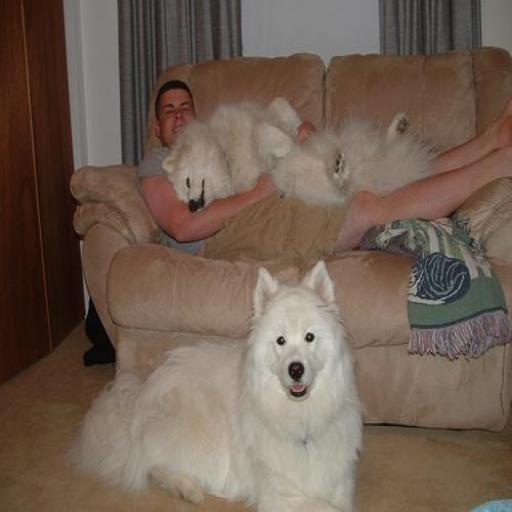dog_face: (256, 262, 332, 404)
